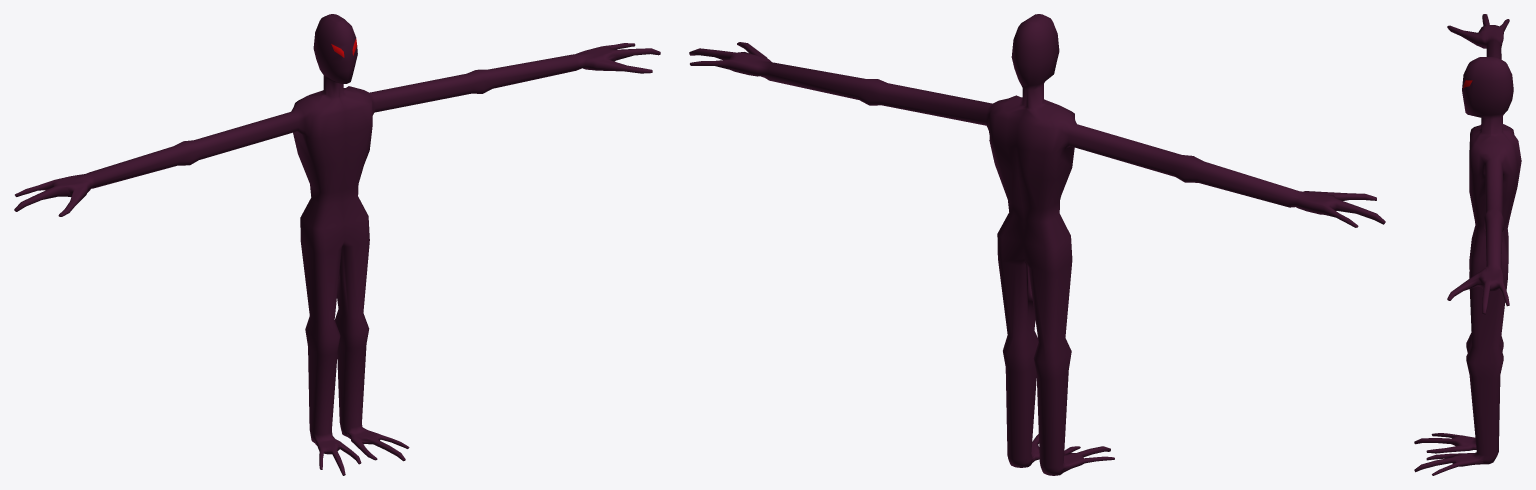
File: Stranger (bones).fbx
3 views of the same model, side by side, from view 1: azimuth 30°, elevation 25°; view 2: azimuth 150°, elevation 25°; view 3: azimuth 270°, elevation 25° (orthographic). The views are drawn at different scales.
Parts seen in each view (by area): view 1: Stranger; view 2: Stranger; view 3: Stranger.
Boxes of the visible parts, x1,y1,x2,y2 form: Stranger: (14,14,660,475); Stranger: (689,14,1385,475); Stranger: (1414,14,1521,475).
Bounding box in the file's own units: 1645 × 1029 × 250.
